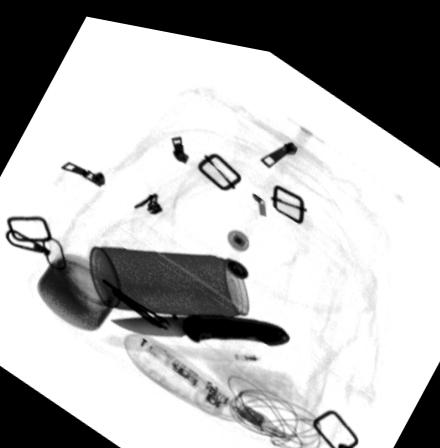Knife: (106, 302, 290, 336)
